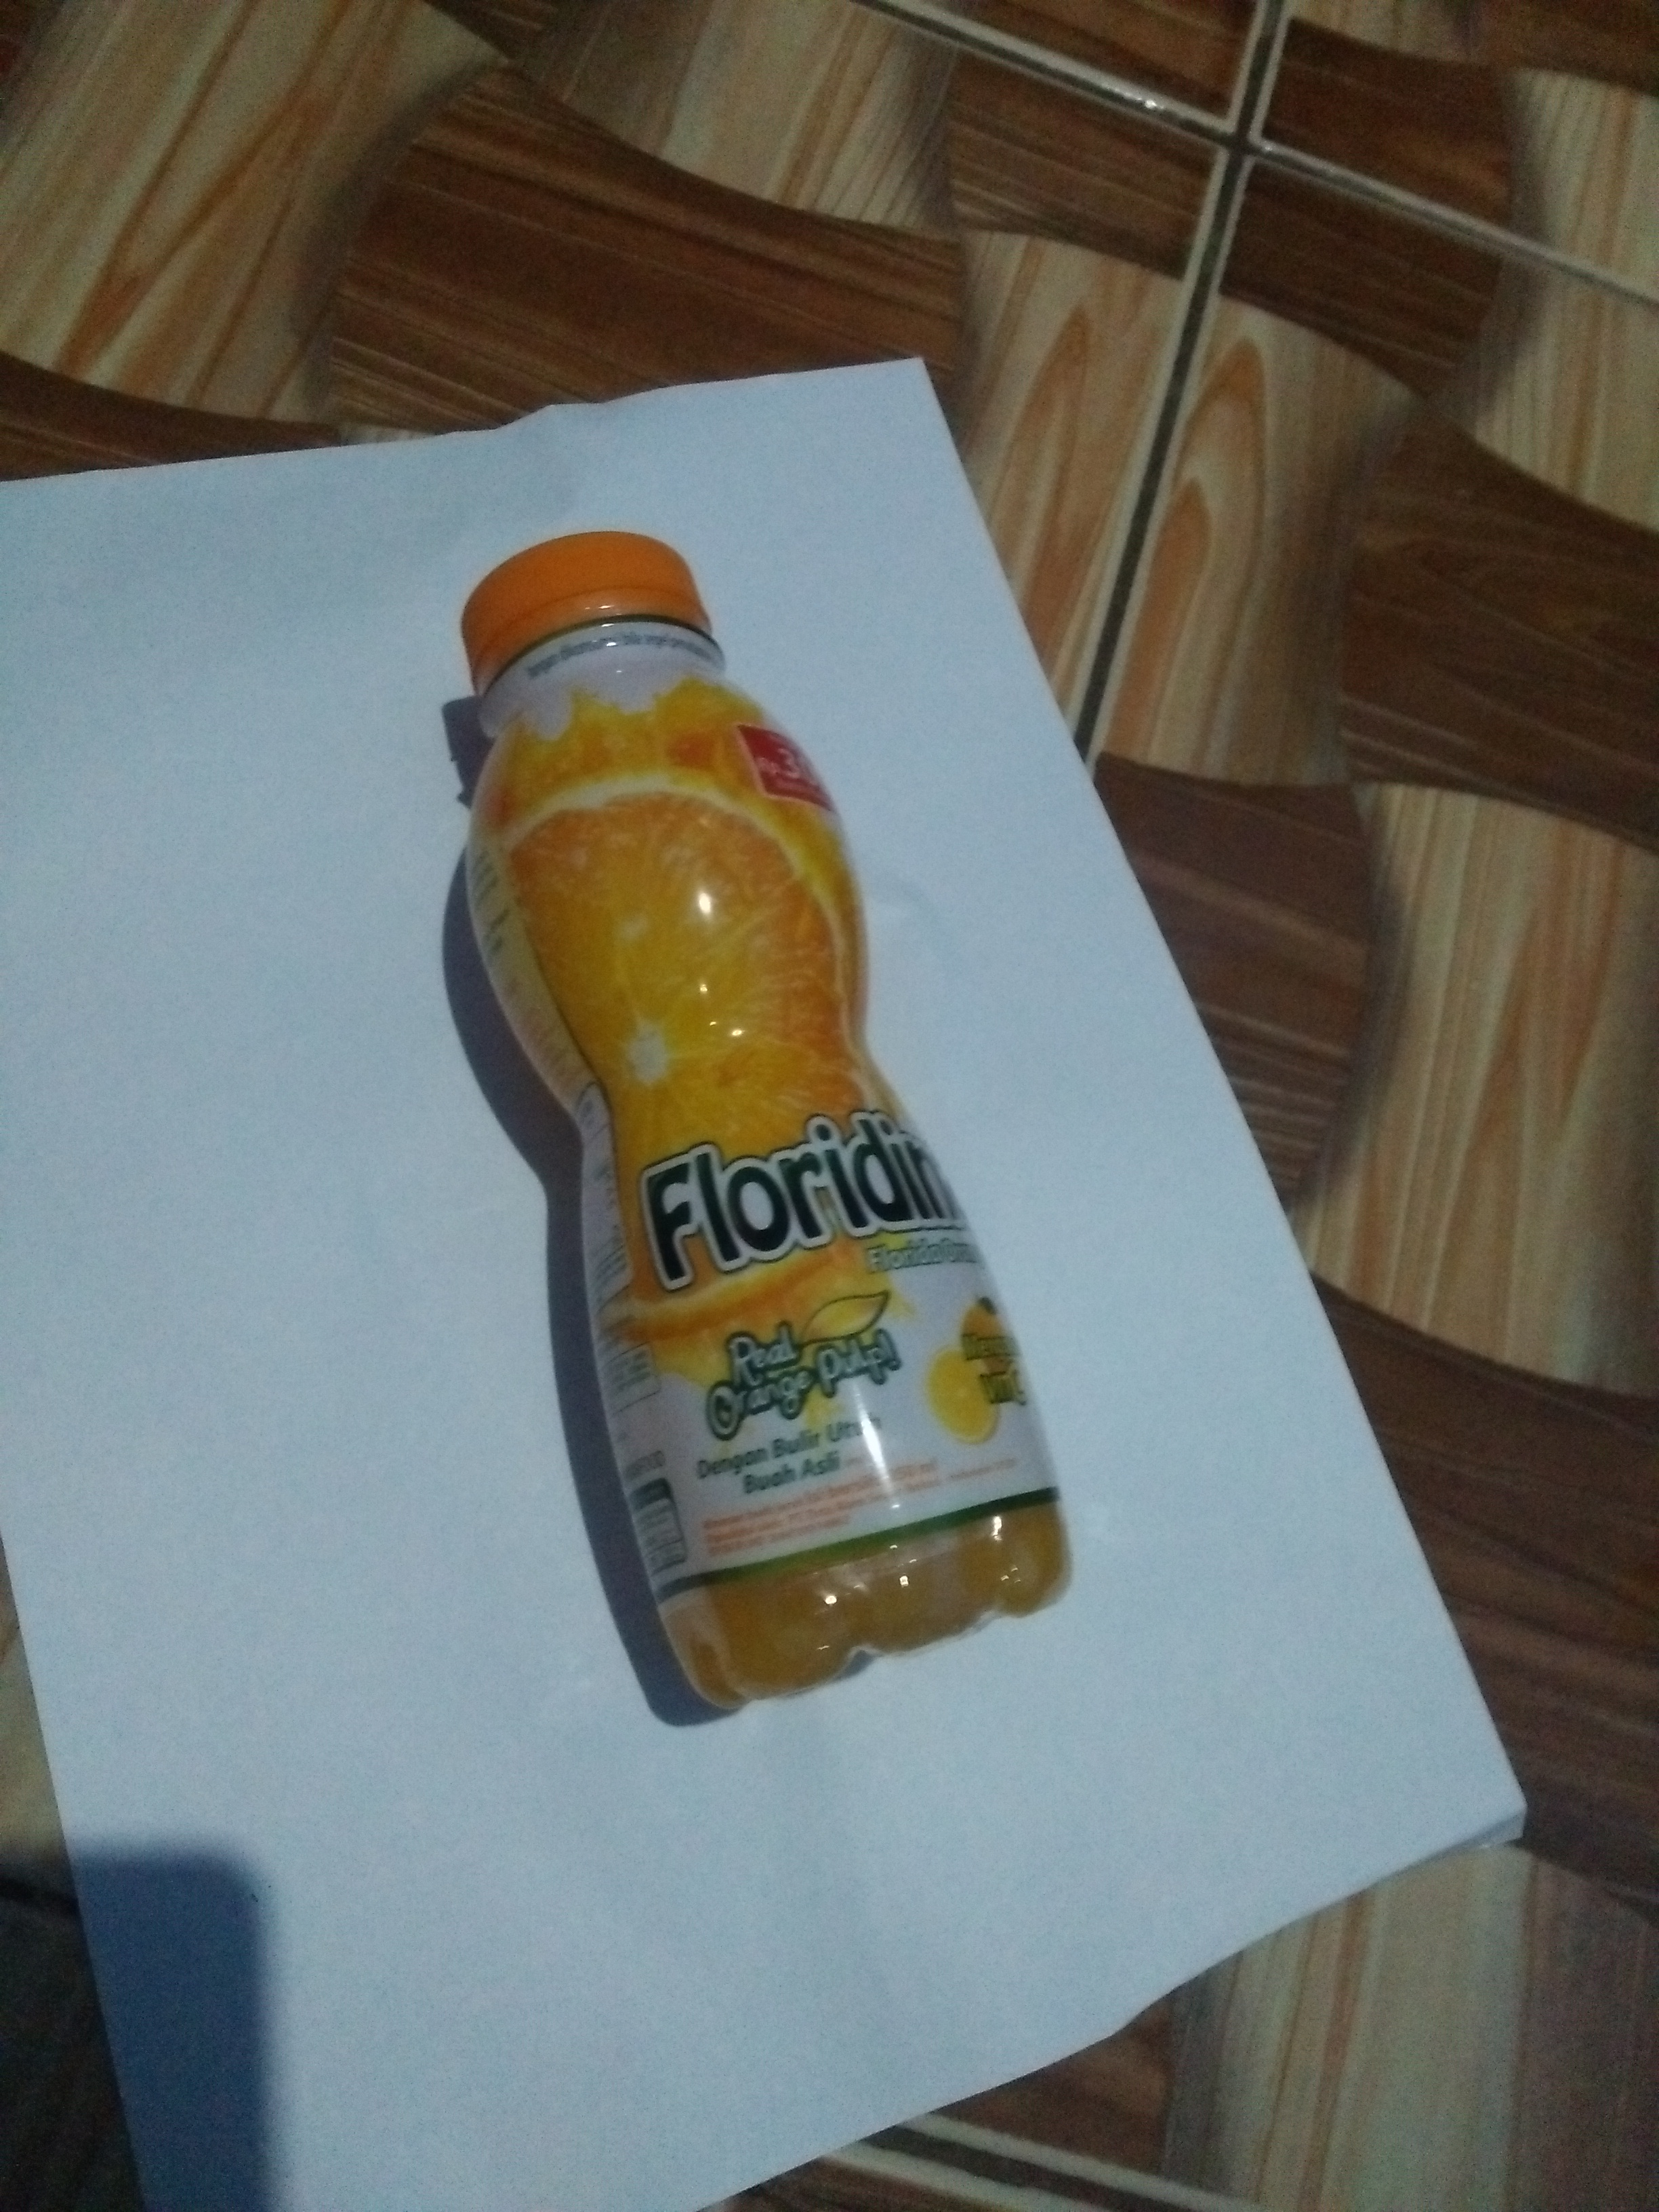Floridina: (439, 512, 1098, 1723)
